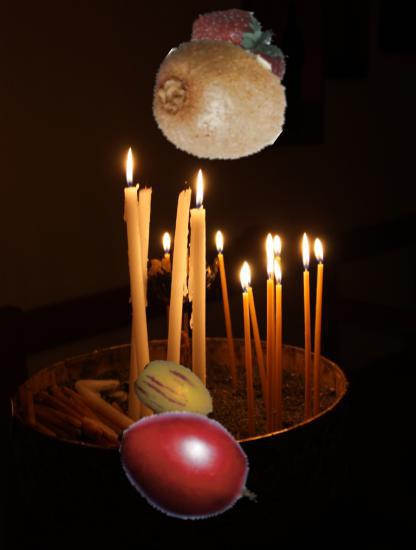Kiwi: (149, 33, 288, 172)
Pepino: (135, 353, 217, 435)
Potato: (139, 401, 238, 500)
Strawberry: (179, 0, 299, 120)
Tamarillo: (117, 393, 266, 542)
